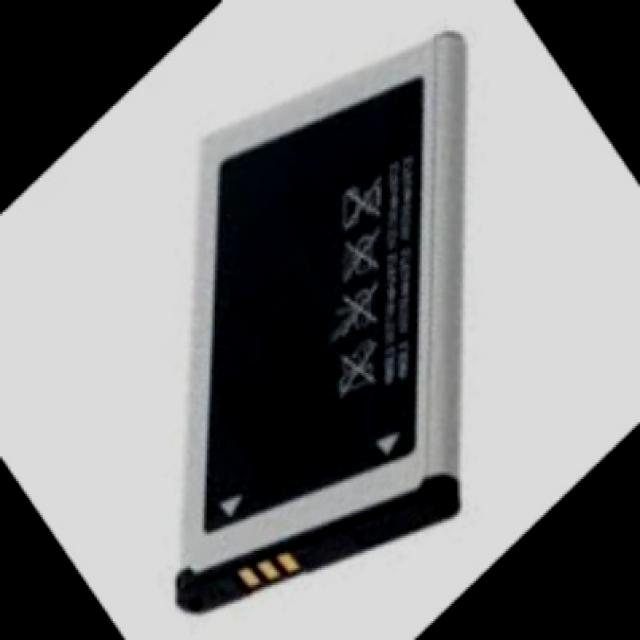elektronik: (188, 68, 467, 607), (177, 552, 266, 614)
